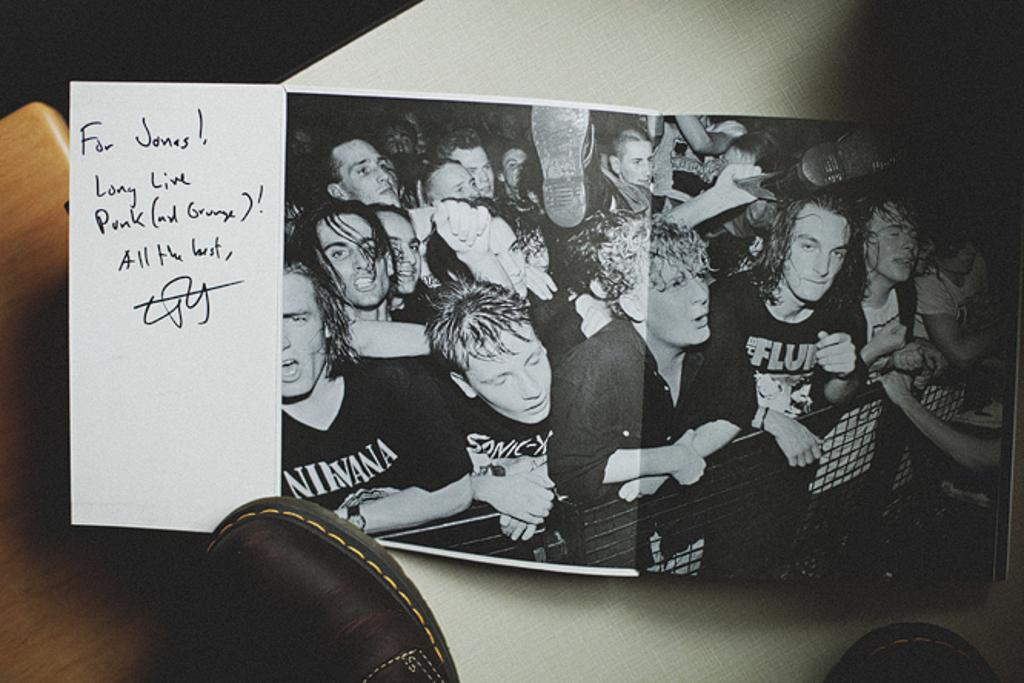face: (466, 326, 552, 423), (783, 203, 850, 302), (318, 214, 388, 308), (647, 254, 711, 344), (279, 273, 322, 396), (375, 209, 422, 293), (477, 217, 526, 297), (872, 204, 918, 282), (340, 140, 394, 205), (454, 146, 495, 198), (434, 167, 477, 211), (518, 230, 552, 284), (947, 228, 978, 274), (622, 142, 654, 186), (725, 149, 751, 193), (386, 124, 413, 163), (504, 150, 528, 191), (292, 129, 316, 159), (497, 111, 521, 138)
